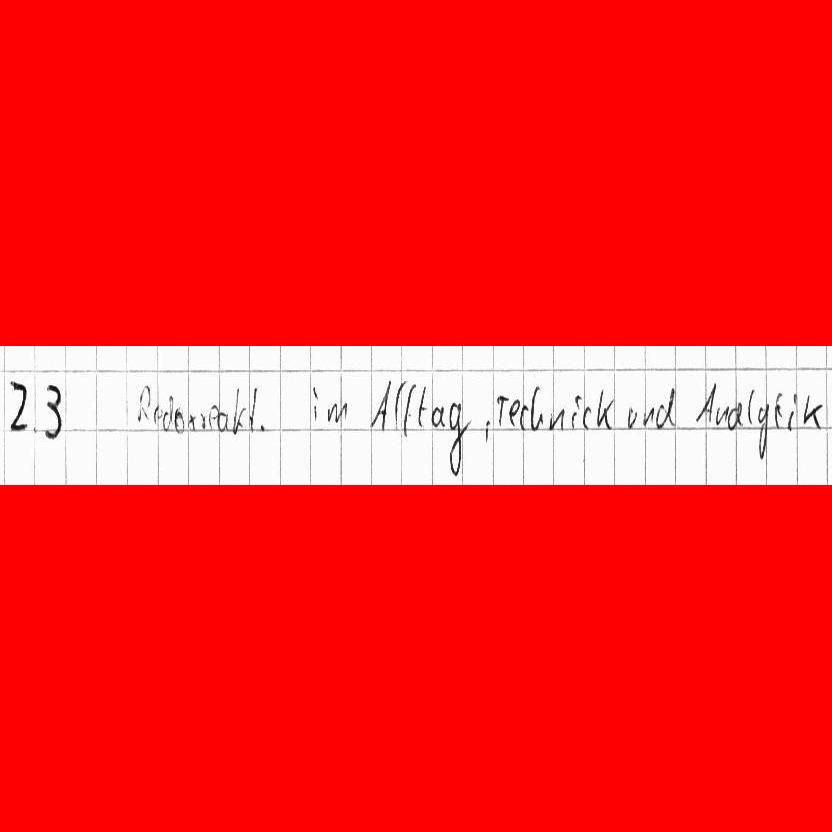Char: (447, 401, 471, 477), (367, 377, 392, 432), (42, 382, 64, 441), (6, 378, 29, 433), (655, 386, 679, 430), (695, 381, 716, 423), (596, 387, 616, 430), (802, 393, 825, 430), (230, 385, 246, 433), (529, 384, 545, 430), (393, 377, 406, 432), (756, 403, 768, 459), (403, 383, 416, 433), (137, 383, 152, 423), (325, 400, 349, 425), (725, 400, 744, 431), (417, 384, 429, 429), (568, 393, 583, 429), (772, 389, 784, 430), (249, 385, 259, 434), (495, 393, 509, 427), (787, 392, 799, 431), (310, 382, 321, 422), (508, 397, 521, 429), (549, 406, 565, 431), (163, 393, 173, 431), (430, 404, 446, 427), (713, 403, 729, 426), (173, 405, 185, 435), (216, 408, 230, 433), (207, 402, 219, 431), (747, 387, 756, 425), (517, 402, 528, 431), (641, 406, 655, 428), (626, 404, 638, 429), (581, 405, 592, 430), (483, 418, 492, 443), (188, 411, 198, 433), (153, 402, 162, 423), (200, 409, 208, 430), (257, 419, 266, 434)
